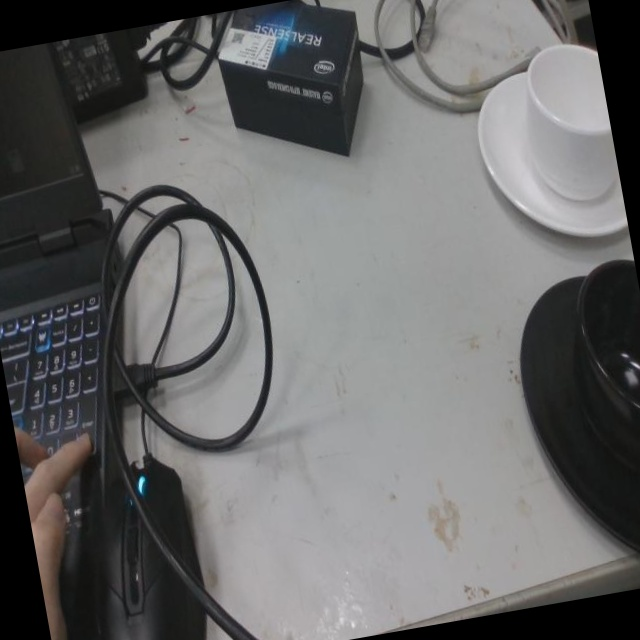black: (527, 258, 640, 589)
white: (477, 40, 613, 249)
